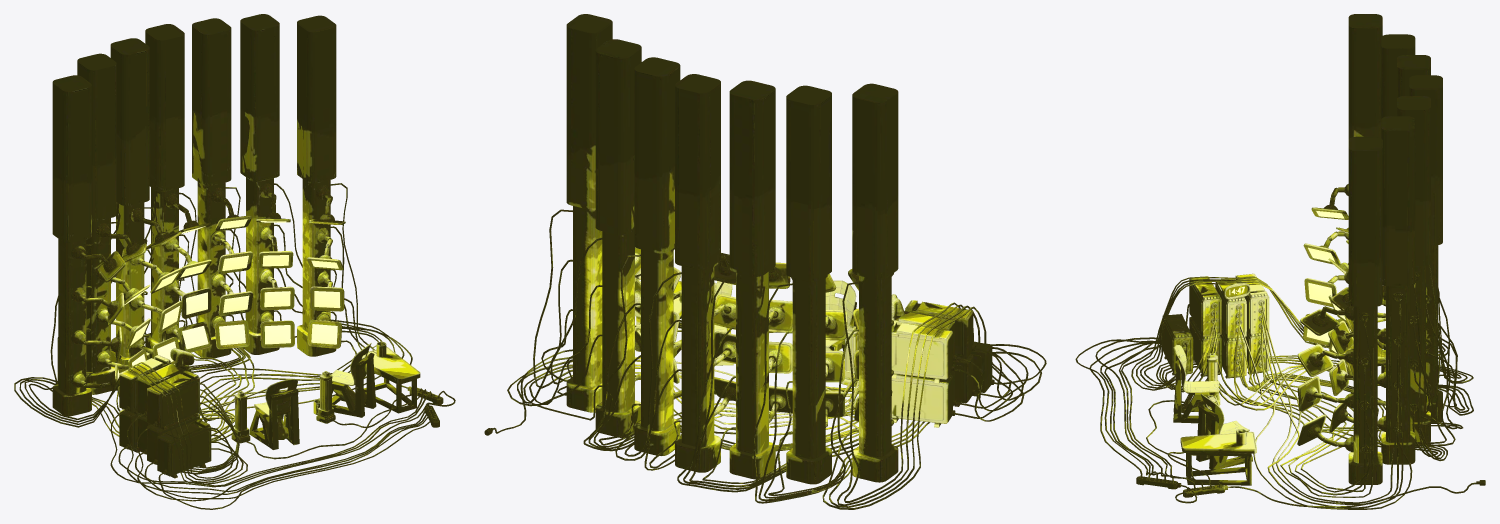
The model's file is surveillance_room.glb.
3 views of the same model, side by side, from view 1: azimuth 30°, elevation 25°; view 2: azimuth 150°, elevation 25°; view 3: azimuth 270°, elevation 25° (orthographic). The views are drawn at different scales.
Visible parts, largest first — view 1: BezierCurve.002_2, BezierCurve.001_1, BezierCurve.004_4, BezierCurve.003_3; view 2: BezierCurve.002_2, BezierCurve.001_1, BezierCurve.004_4; view 3: BezierCurve.002_2, BezierCurve.001_1, BezierCurve.004_4, BezierCurve.003_3.
Boxes of the visible parts, x1,y1,x2,y2 form: BezierCurve.002_2: [52, 14, 345, 416]; BezierCurve.001_1: [14, 183, 455, 509]; BezierCurve.004_4: [119, 341, 443, 478]; BezierCurve.003_3: [117, 219, 340, 379]; BezierCurve.002_2: [484, 14, 898, 484]; BezierCurve.001_1: [493, 209, 1046, 509]; BezierCurve.004_4: [635, 280, 994, 427]; BezierCurve.002_2: [1297, 14, 1485, 485]; BezierCurve.001_1: [1075, 187, 1476, 509]; BezierCurve.004_4: [1136, 273, 1269, 497]; BezierCurve.003_3: [1229, 211, 1351, 366].
Size of what is drawn, in the model's own units: 6.52 by 5.84 by 6.49.
Materials: 3 (2 with a texture image).
